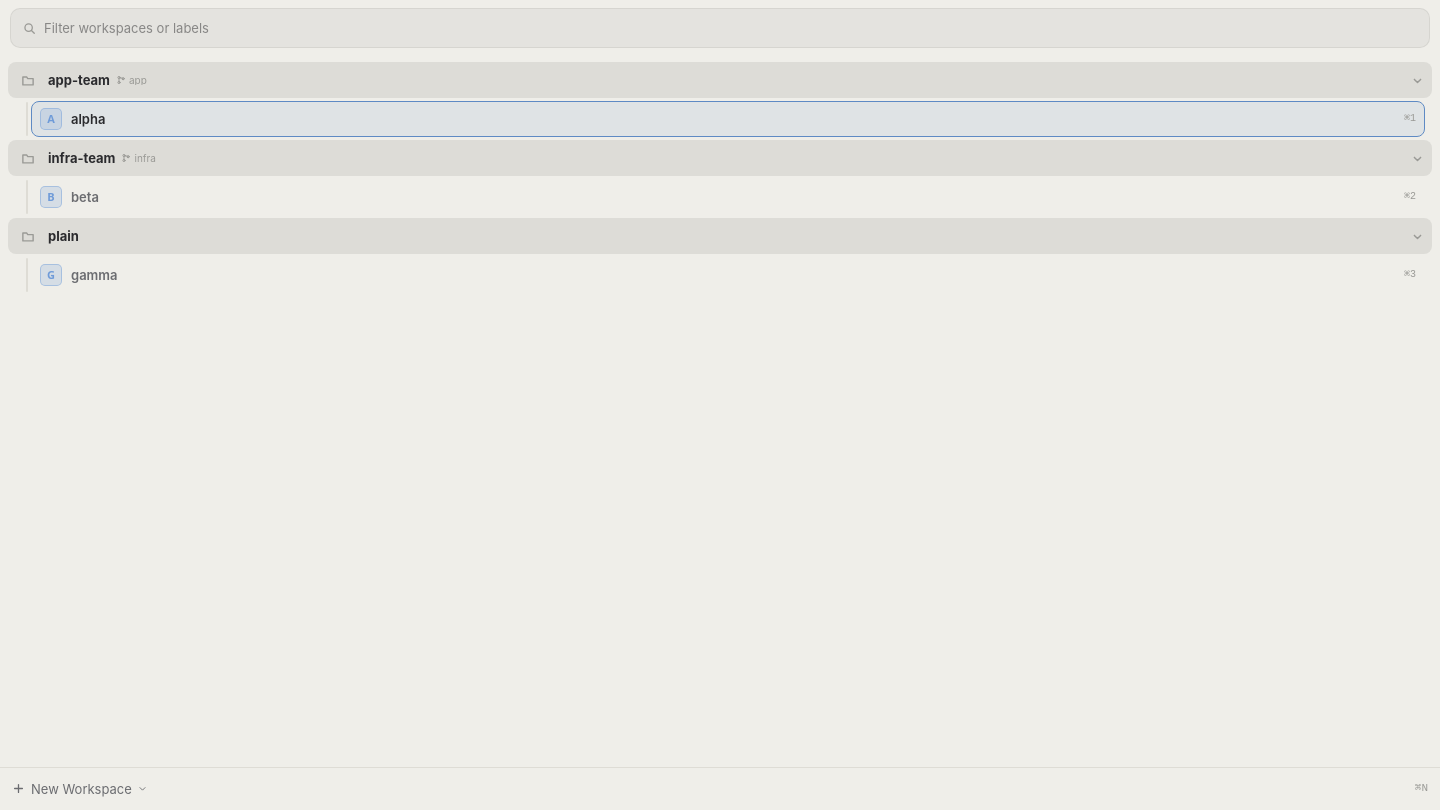
the group’s repository sheet (§5.5) › opens on the current repo with the switch as set, focus in the filter
The width and height of the screenshot is (1440, 810).
Right-click the element with test id "group-header" showing "app-team app".
right_click(720, 80)  # box [8,62,1432,98]
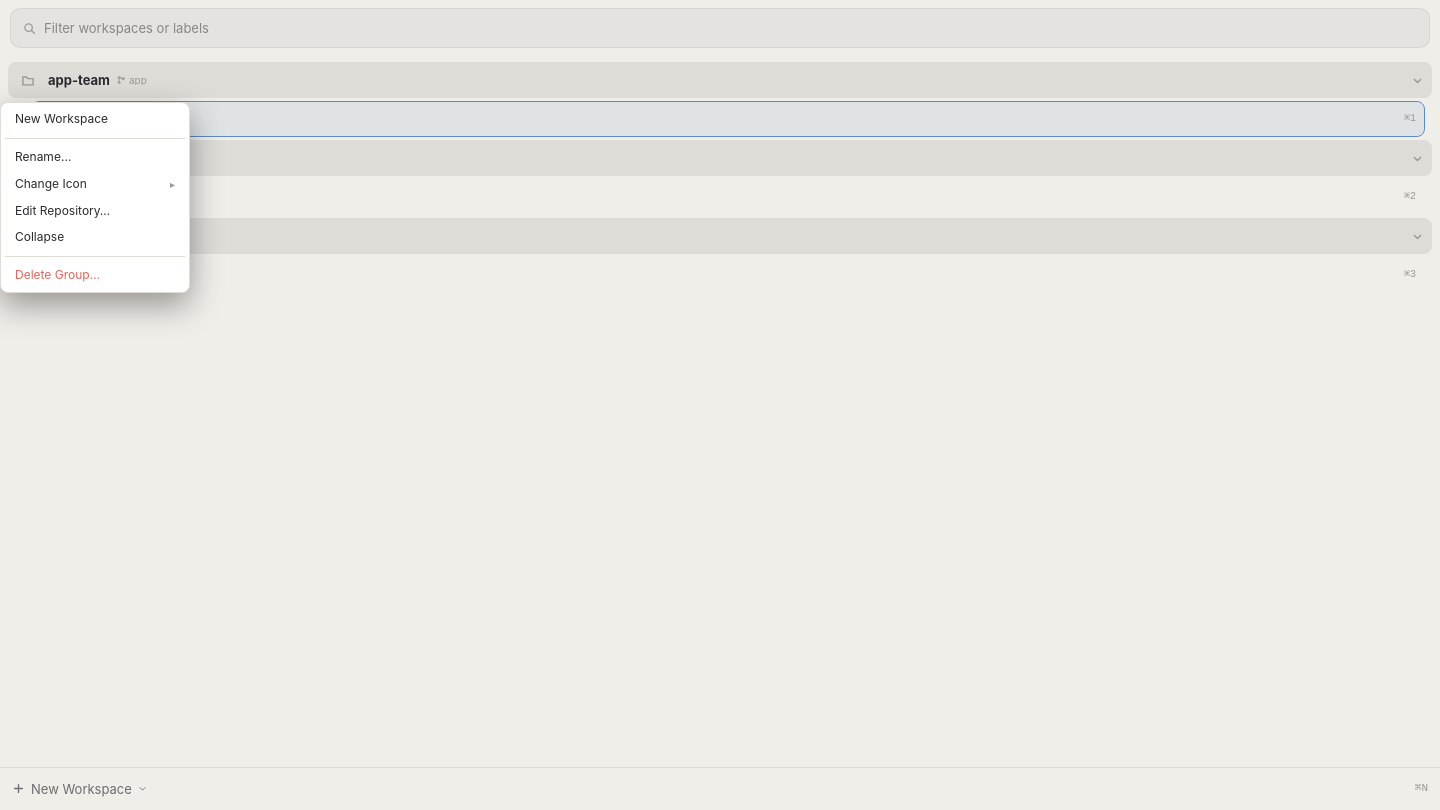
Click the menu item "Edit Repository…".
click(95, 211)  # box [5,199,185,223]
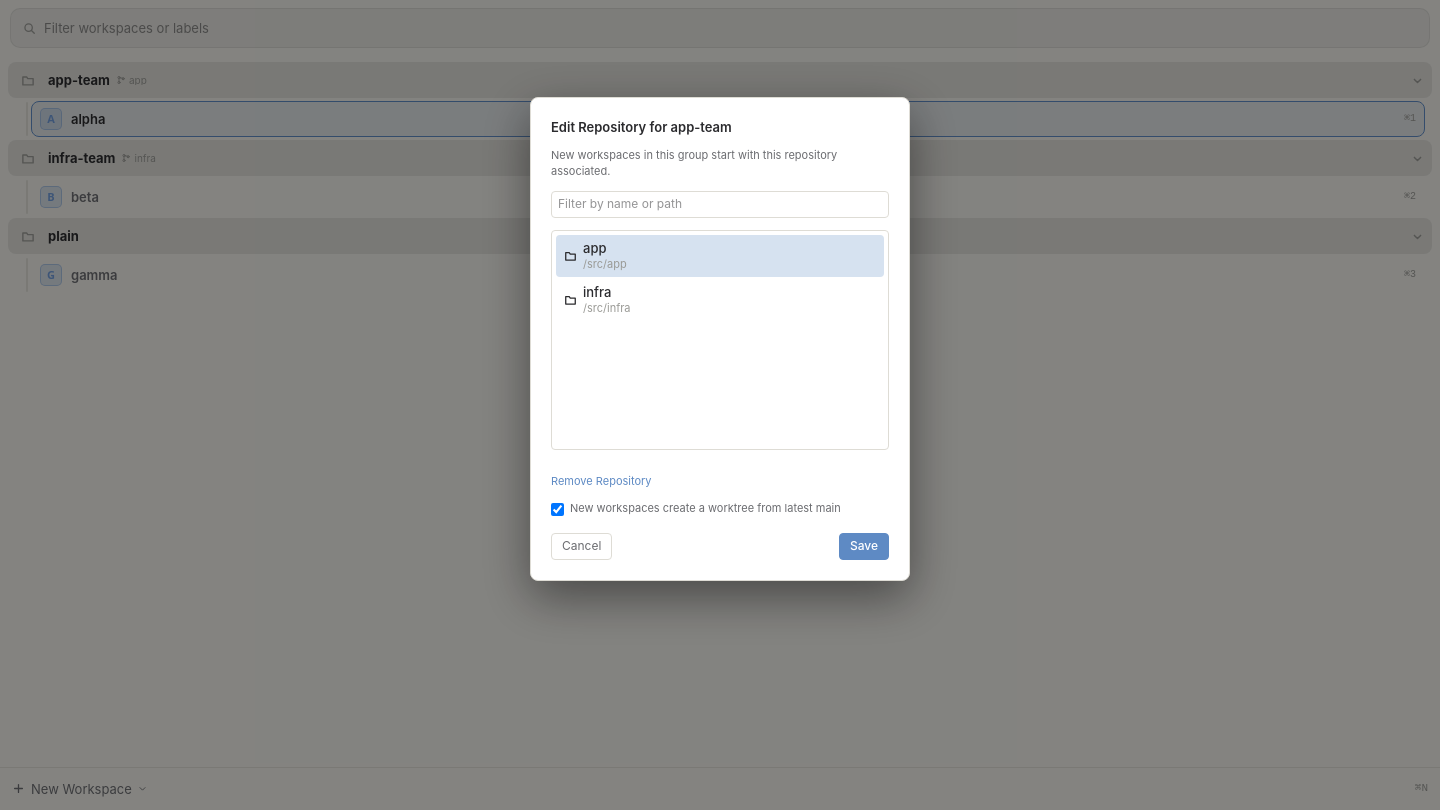
Now the checkbox with test id "group-repo-create-worktree" is checked, box [551,502,564,516]
